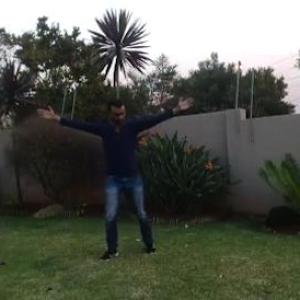takeoff: (33, 89, 181, 266)
